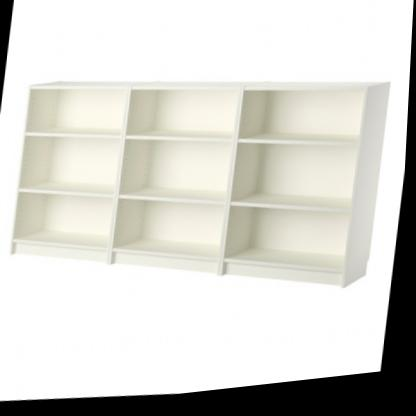Cabinet: (1, 43, 401, 334)
